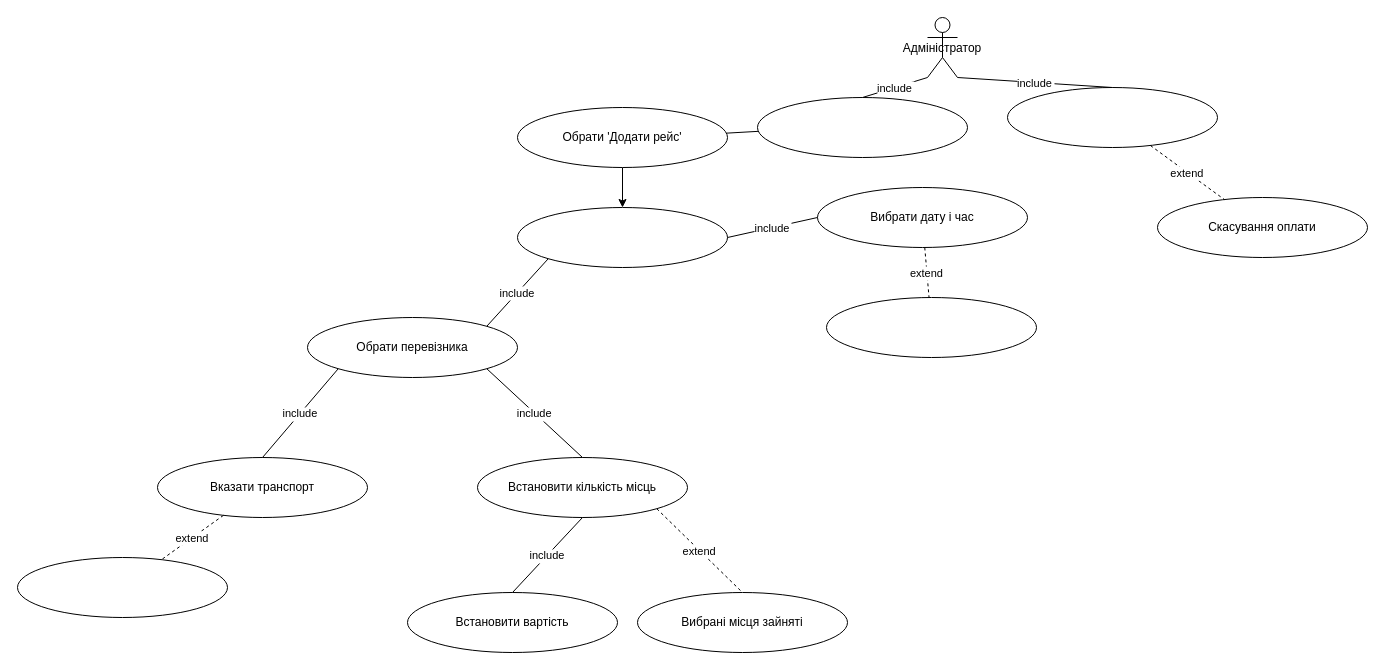
The diagram is 1385 pixels wide and 670 high, and some of its shapes have lost their labels. The box of each missing label's shape, as (x1, y1, x2, y2) in pixels:
Вказати напрямок: (516, 206, 728, 268)
Немає вільної дати: (826, 296, 1036, 358)
Попередження: транспорт зайнятий: (16, 556, 228, 618)
Підтвердження замовлення: (1006, 86, 1218, 148)
Увійти в систему: (756, 96, 968, 158)
